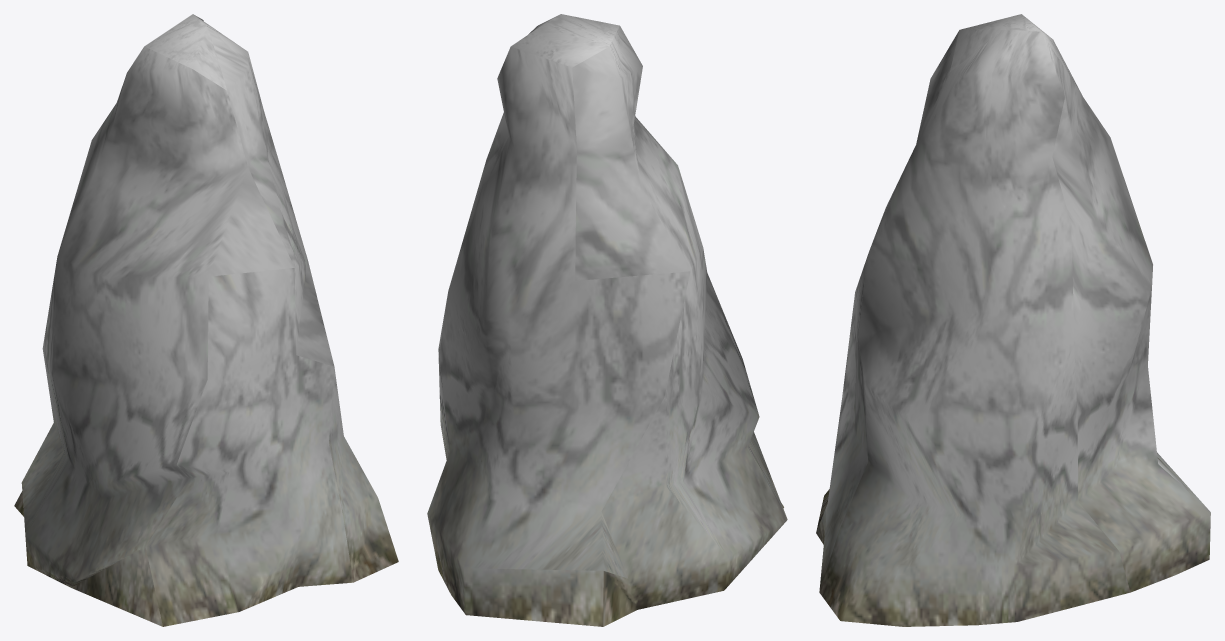
Rendered from general_obj_bigstone10.fbx.
The picture shows the model from 3 angles, left to right: view 1: azimuth 30°, elevation 25°; view 2: azimuth 150°, elevation 25°; view 3: azimuth 270°, elevation 25°; orthographic projection. The views are drawn at different scales.
Parts seen in each view (by area): view 1: Sphere01fs02; view 2: Sphere01fs02; view 3: Sphere01fs02.
Boxes of the visible parts, x1,y1,x2,y2 form: Sphere01fs02: (14, 14, 398, 626); Sphere01fs02: (427, 14, 787, 626); Sphere01fs02: (816, 14, 1210, 626).
Bounding box in the file's own units: 13.02 × 21.51 × 14.32.
